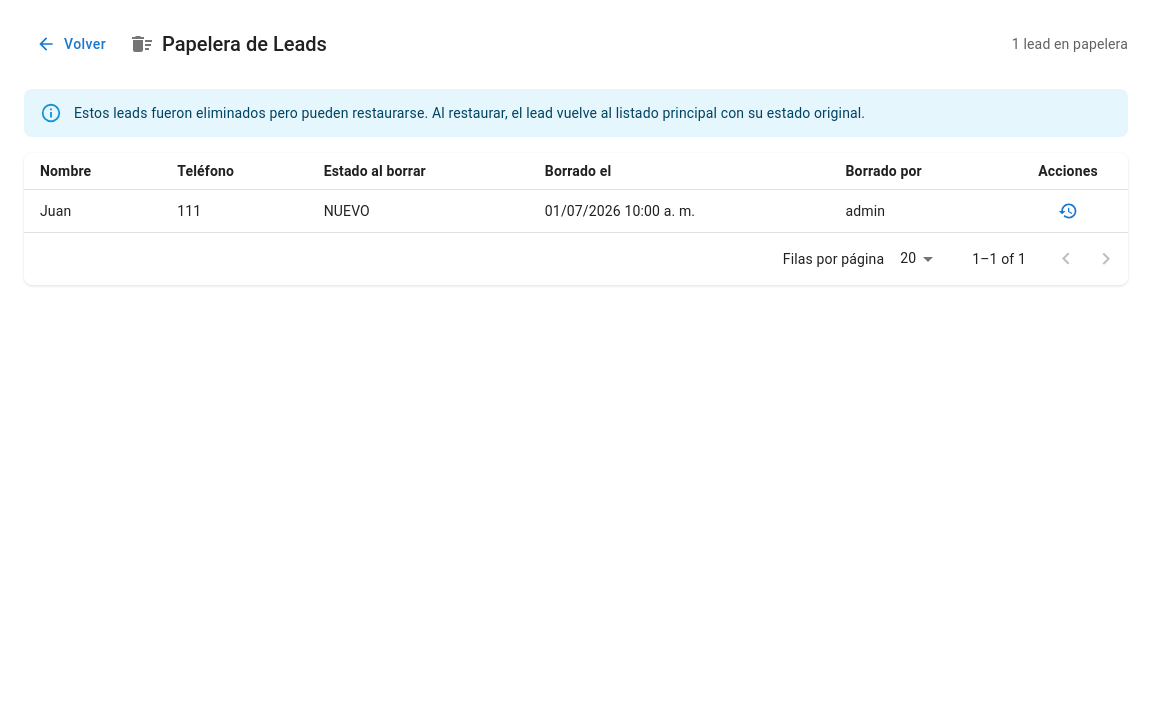
Test: LeadsPapeleraPage › restaurar lead › invalida la query ["leads"] tras restaurar (la lista principal refleja el cambio)
Click the 2nd button at (1068, 210), box top-left (1053, 196), bottom-right (1083, 226)
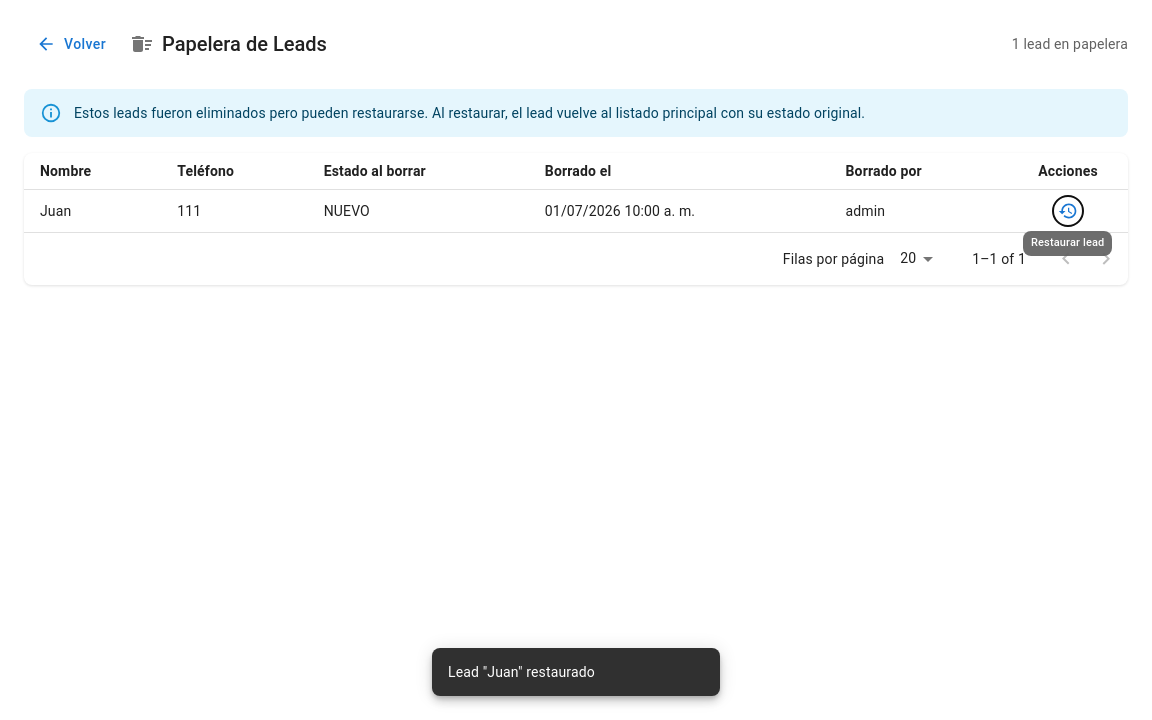
Now the text "Lead \"Juan\" restaurado" is shown, box top-left (448, 664), bottom-right (595, 680)
